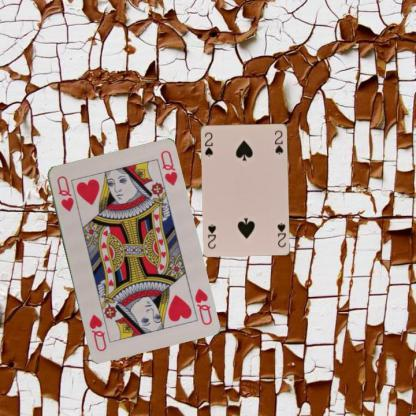2s: (275, 219, 287, 248), (202, 130, 214, 158)
Qh: (191, 286, 213, 326), (54, 172, 74, 212)
